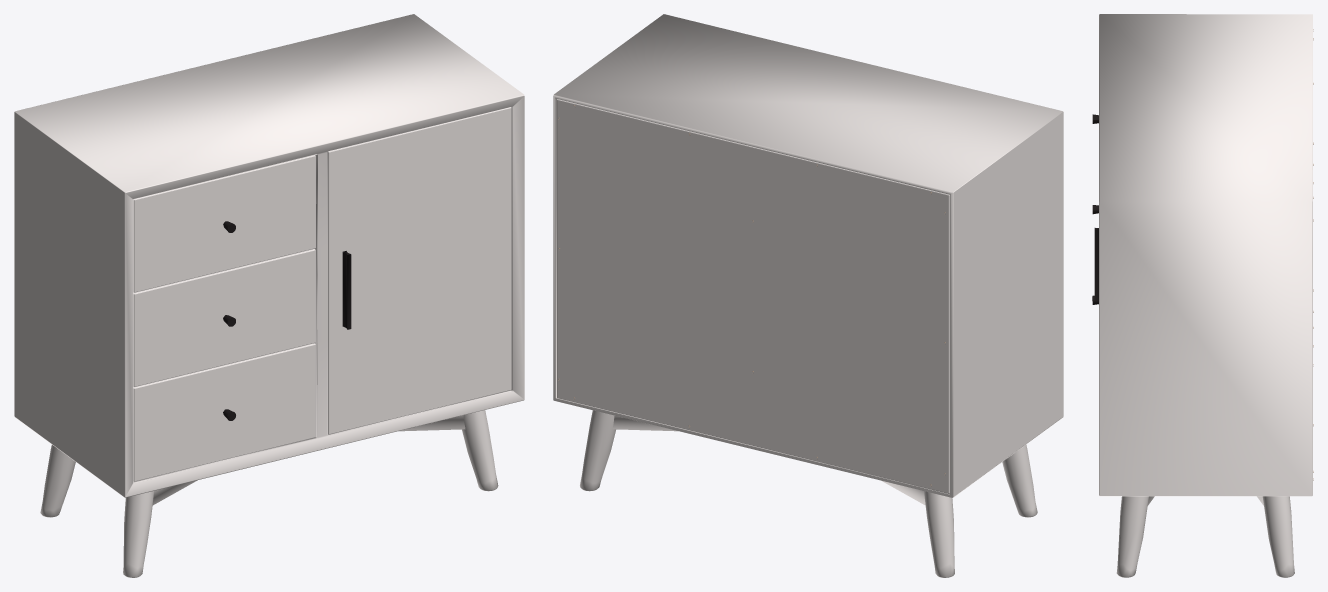
The picture shows the model from 3 angles, left to right: view 1: azimuth 30°, elevation 25°; view 2: azimuth 150°, elevation 25°; view 3: azimuth 270°, elevation 25°; orthographic projection. The views are drawn at different scales.
Visible parts, largest first — view 1: visual_RootNode; view 2: visual_RootNode; view 3: visual_RootNode.
Part boxes in pixels (left/top/right/bottom): visual_RootNode: left=14, top=14, right=524, bottom=577; visual_RootNode: left=553, top=14, right=1063, bottom=577; visual_RootNode: left=1092, top=14, right=1313, bottom=577.
Bounding box in the file's own units: 0.7999 × 0.3981 × 0.7608.
1 material, 1 textured.
